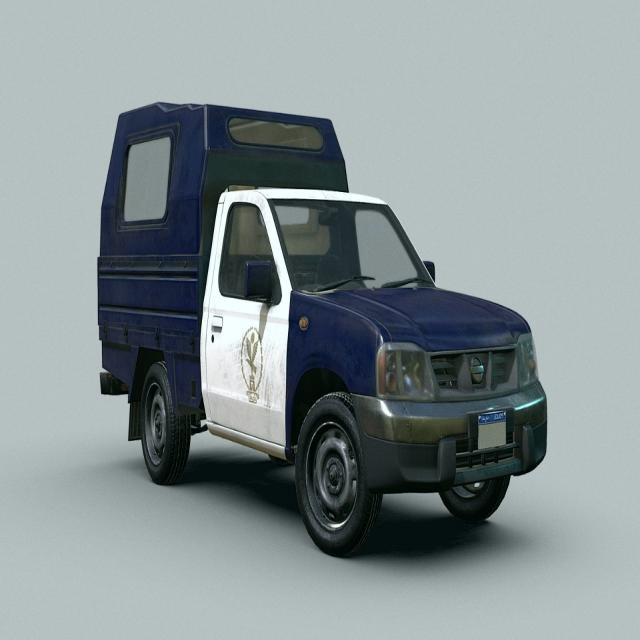police-car: (97, 101, 547, 558)
